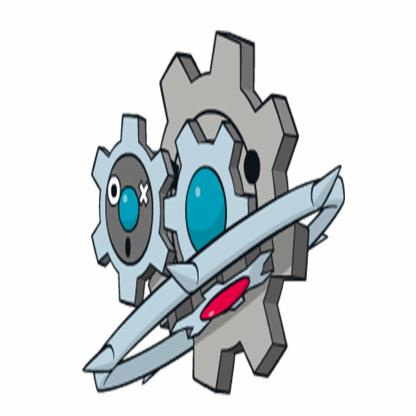FOD: (145, 29, 312, 397), (88, 108, 176, 312)
